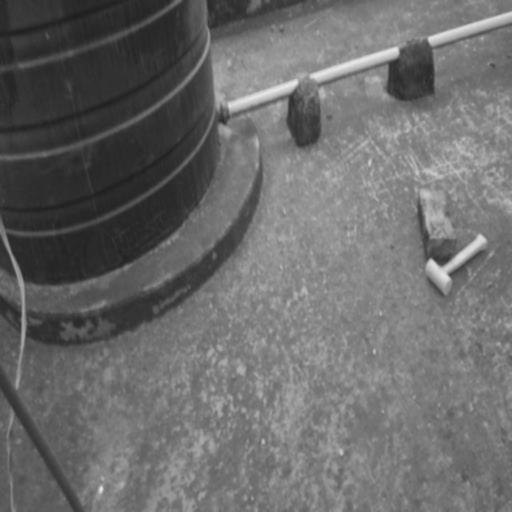mallet: (426, 234, 486, 295)
